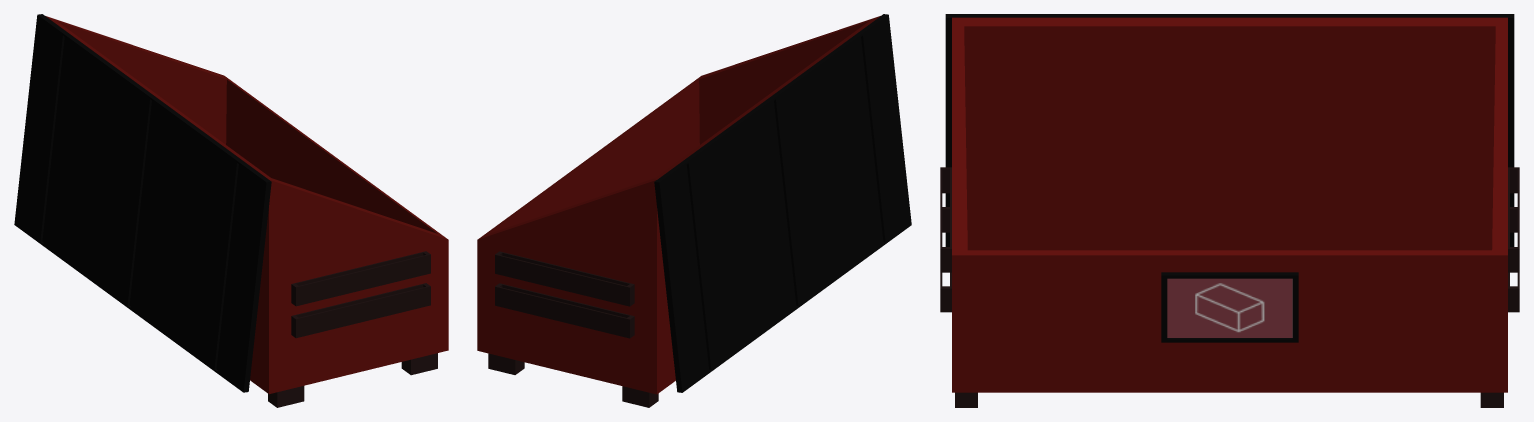
The model's file is Brick Dumpster.fbx.
The picture shows the model from 3 angles, left to right: view 1: azimuth 30°, elevation 25°; view 2: azimuth 150°, elevation 25°; view 3: azimuth 270°, elevation 25°; orthographic projection. The views are drawn at different scales.
Visible parts, largest first — view 1: Cube, Dumpster_Body, Dumpster_Handles_Left2, Dumpster_Handles_Left1, Dumpster_Legs_Left1, Dumpster_Legs_Left2; view 2: Cube, Dumpster_Body, Dumpster_Handles_Right1, Dumpster_Handles_Right2, Dumpster_Legs_Right2, Dumpster_Legs_Right1; view 3: Dumpster_Body, Dumpster_Sign, Cube, Dumpster_Handles_Left2, Dumpster_Handles_Right1, Dumpster_Handles_Left1, Dumpster_Handles_Right2.
Part boxes in pixels (x1,y1,x2,y2): Cube: (14, 14, 271, 392); Dumpster_Body: (45, 16, 448, 394); Dumpster_Handles_Left2: (291, 251, 430, 306); Dumpster_Handles_Left1: (291, 283, 430, 338); Dumpster_Legs_Left1: (268, 386, 304, 407); Dumpster_Legs_Left2: (401, 353, 437, 375); Cube: (654, 14, 911, 392); Dumpster_Body: (477, 16, 880, 394); Dumpster_Handles_Right1: (495, 251, 634, 306); Dumpster_Handles_Right2: (495, 283, 634, 338); Dumpster_Legs_Right2: (622, 386, 658, 407); Dumpster_Legs_Right1: (488, 353, 524, 374); Dumpster_Body: (952, 17, 1507, 392); Dumpster_Sign: (1161, 272, 1298, 342); Cube: (945, 14, 1514, 246); Dumpster_Handles_Left2: (940, 167, 951, 272); Dumpster_Handles_Right1: (1508, 167, 1519, 272); Dumpster_Handles_Left1: (940, 207, 951, 312); Dumpster_Handles_Right2: (1508, 207, 1519, 312).
Size of the model in its own units: 237 by 247 by 450.
